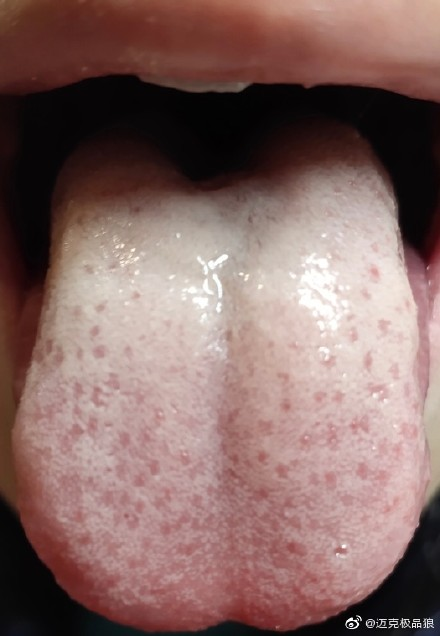baitaishe: (13, 124, 428, 636)
shenquao: (118, 125, 341, 199)
xinfeiao: (145, 569, 303, 636)
